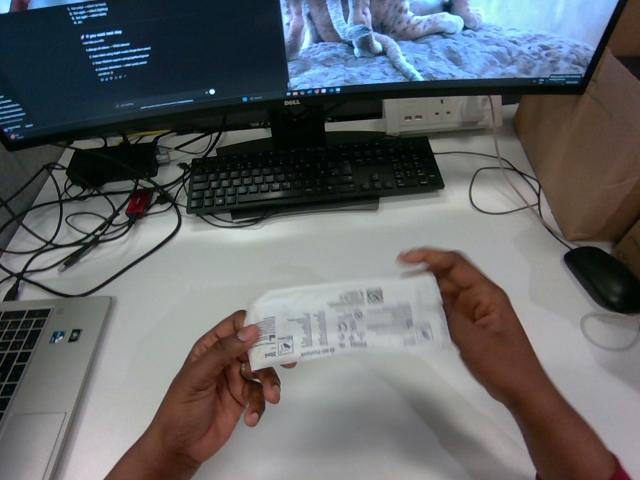syringe: (245, 273, 450, 370)
